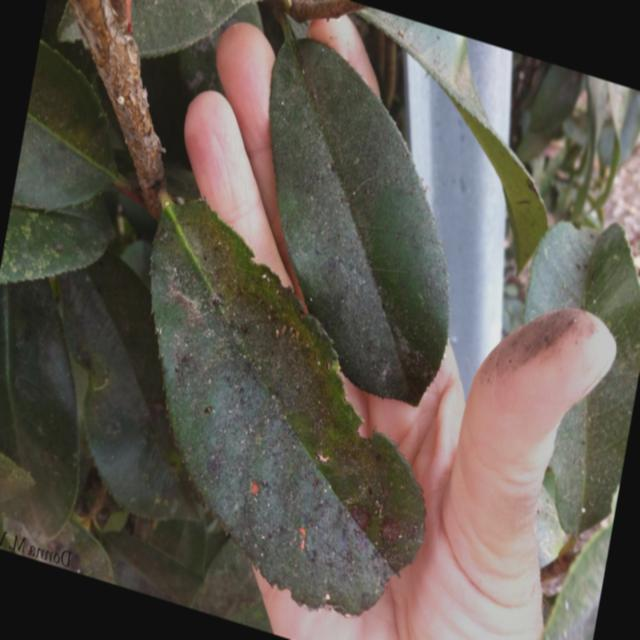Sooty Mold: (147, 193, 428, 617), (266, 34, 452, 407)
